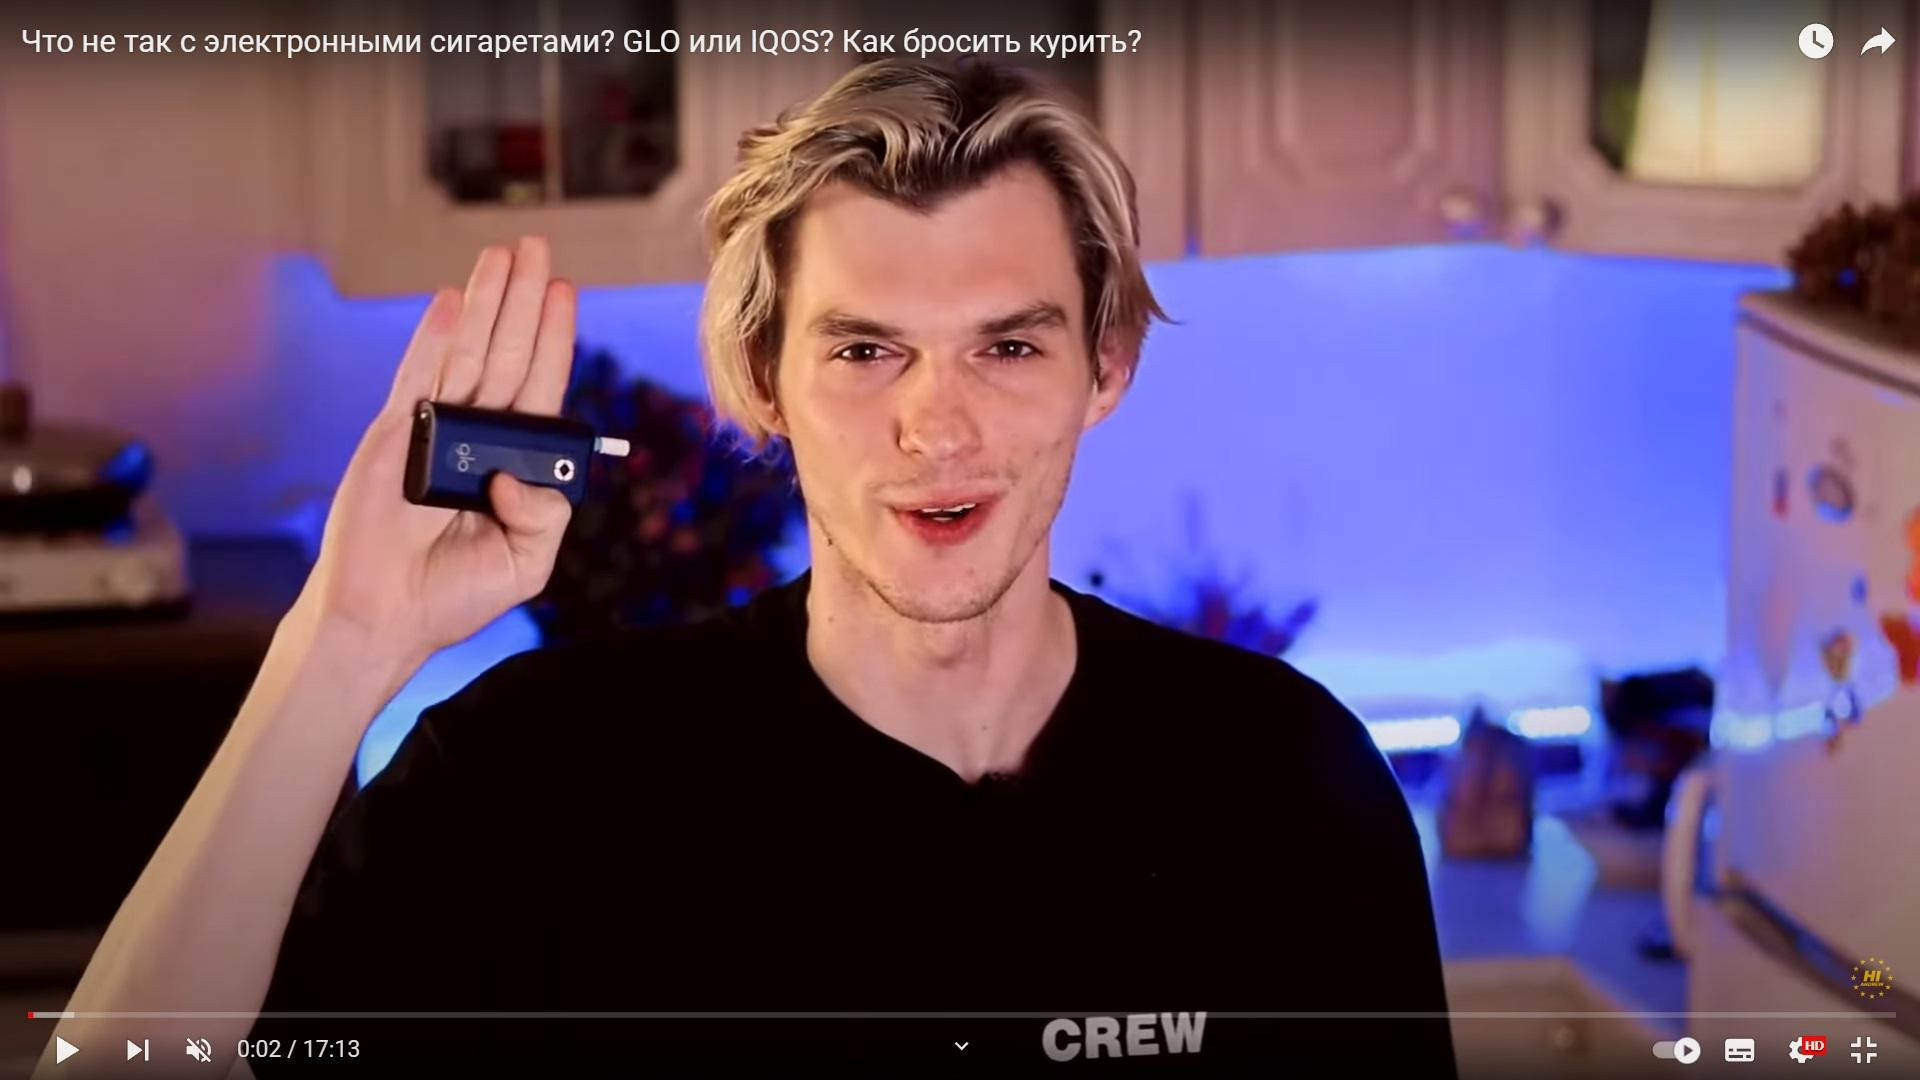iqos: (404, 402, 626, 513)
